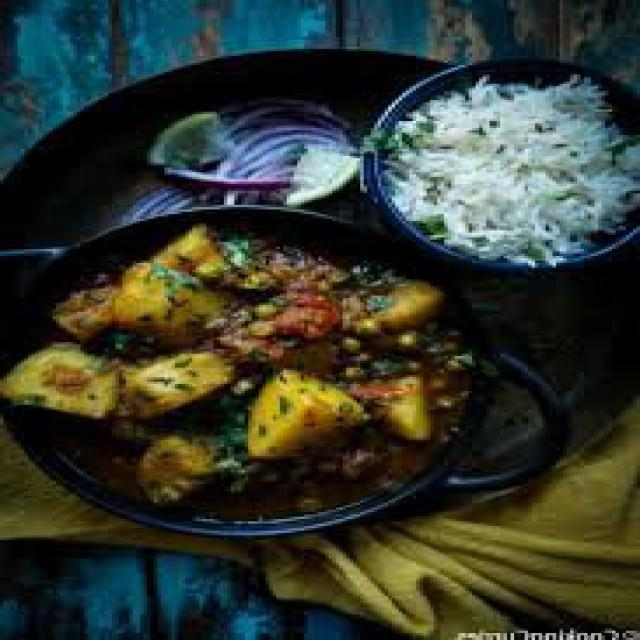Aloo Matar: (2, 236, 452, 511)
